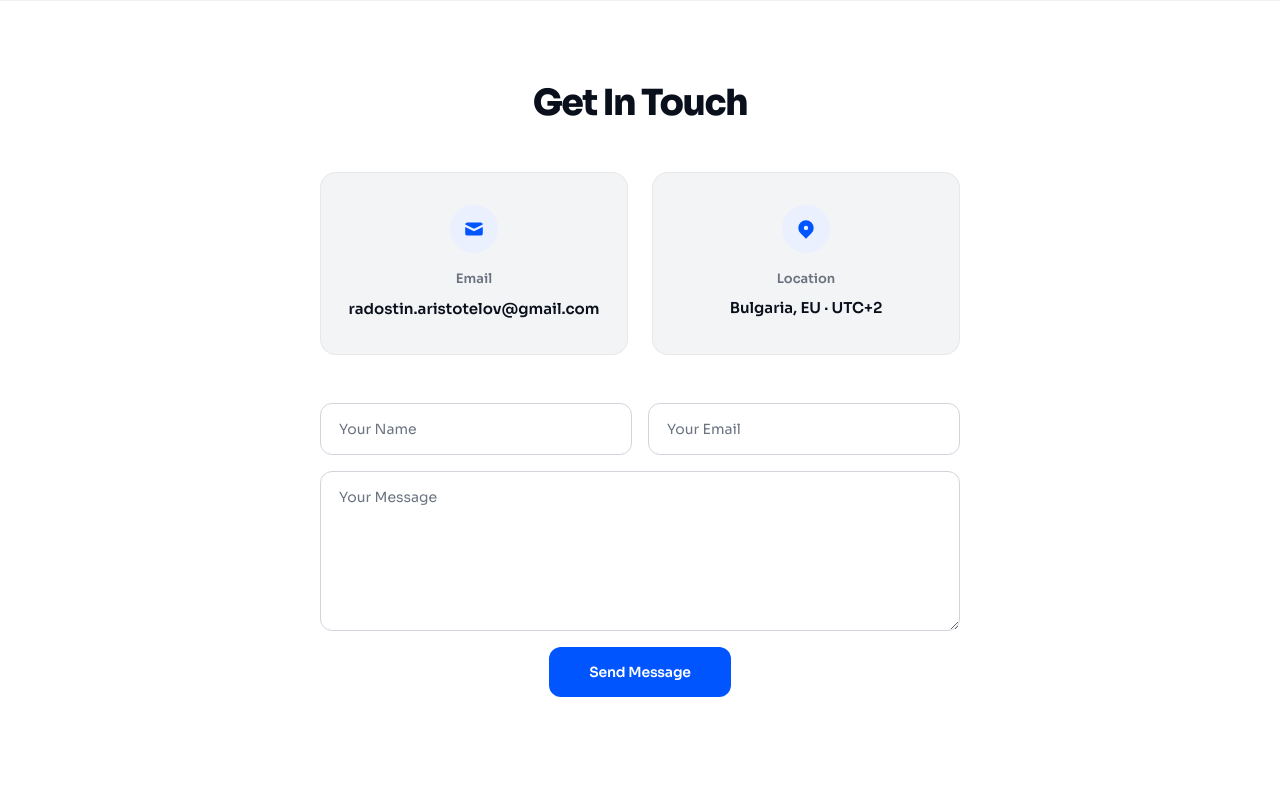
Test: Contact form › valid submission › clears the success alert when the name is edited
The image size is (1280, 800).
Step 1. Type "Ada Lovelace" into the field labelled "Your Name" → (476, 429), box [320,403,632,455]
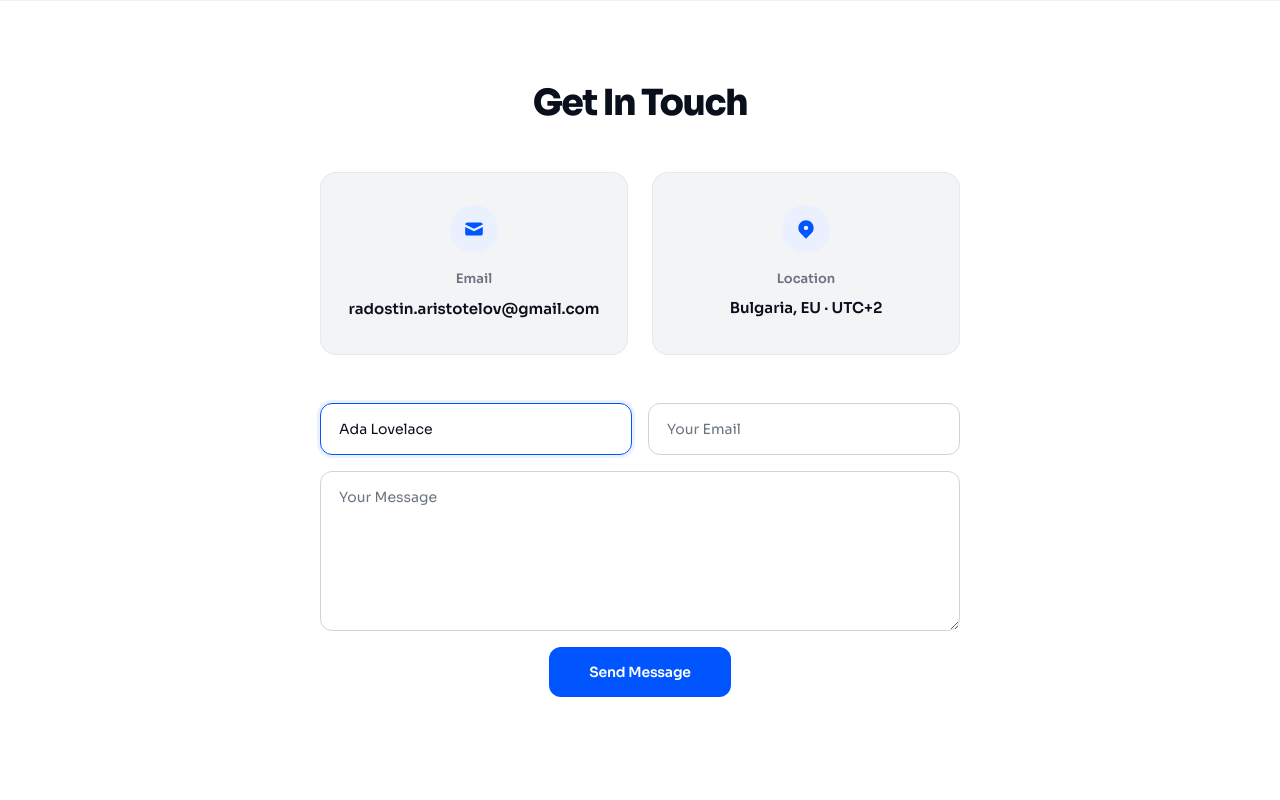
Step 2. Type "ada@example.com" into the field labelled "Your Email" → (804, 429), box [648,403,960,455]
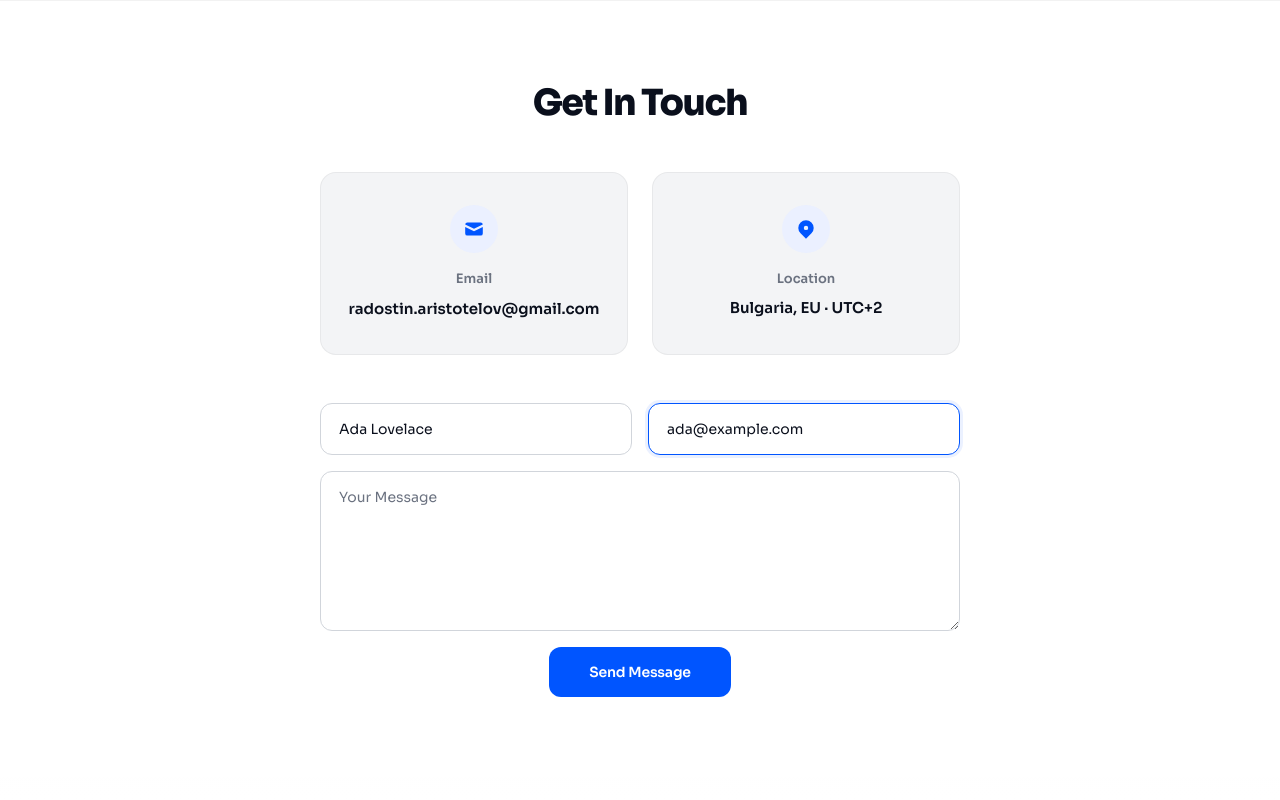
Step 3. Type "Hello there" into the text box labelled "Your Message" → (640, 551), box [320,471,960,631]
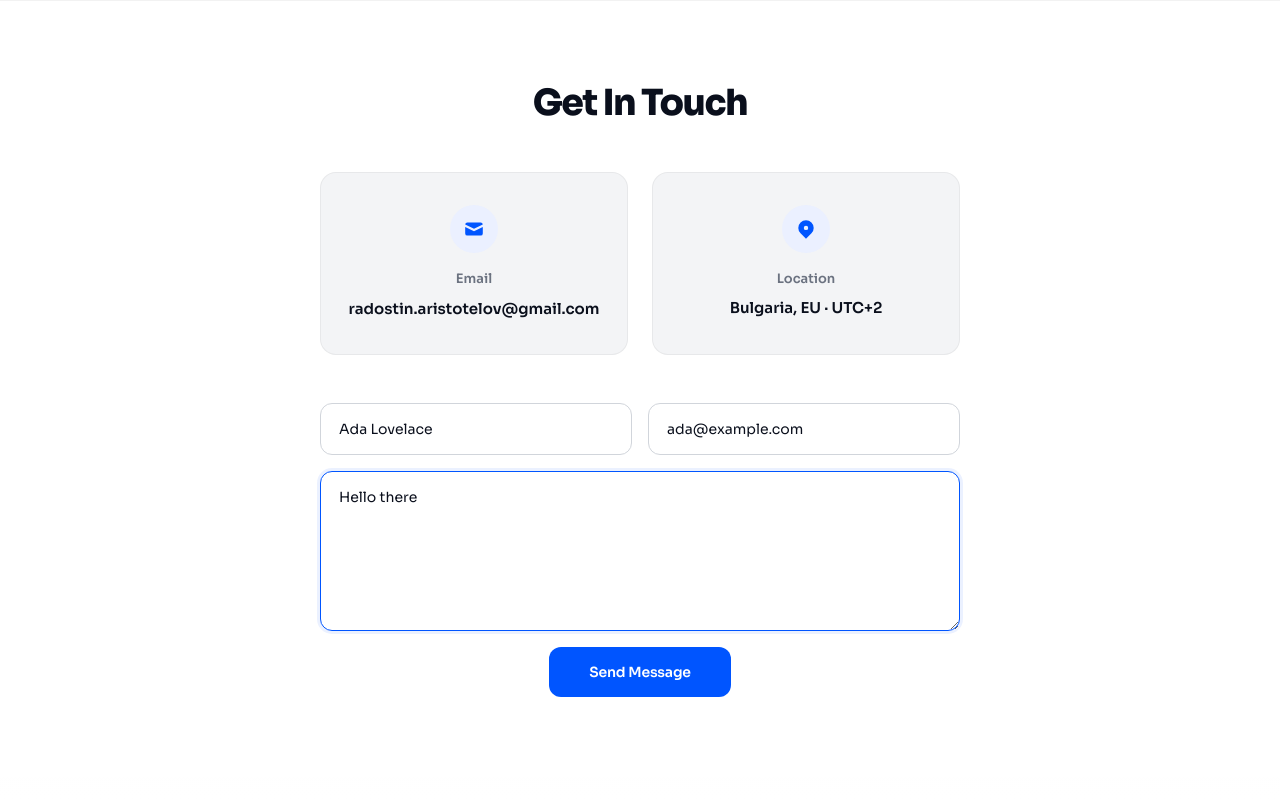
Step 4. Click the button "Send Message" → (640, 672), box [549,647,731,697]
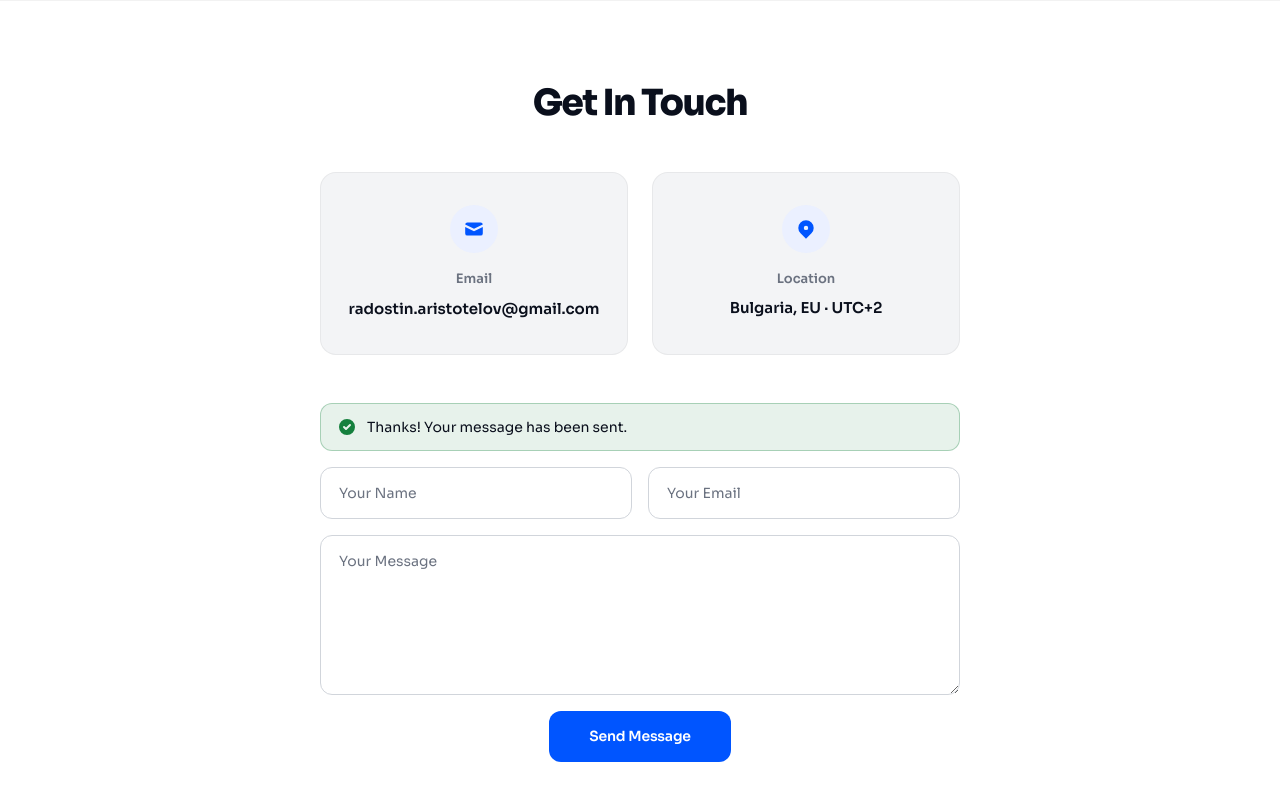
Now the message "Thanks! Your message has been sent." is shown, box [320,403,960,451]
Step 5. Type "a" into the field labelled "Your Name" → (476, 493), box [320,467,632,519]
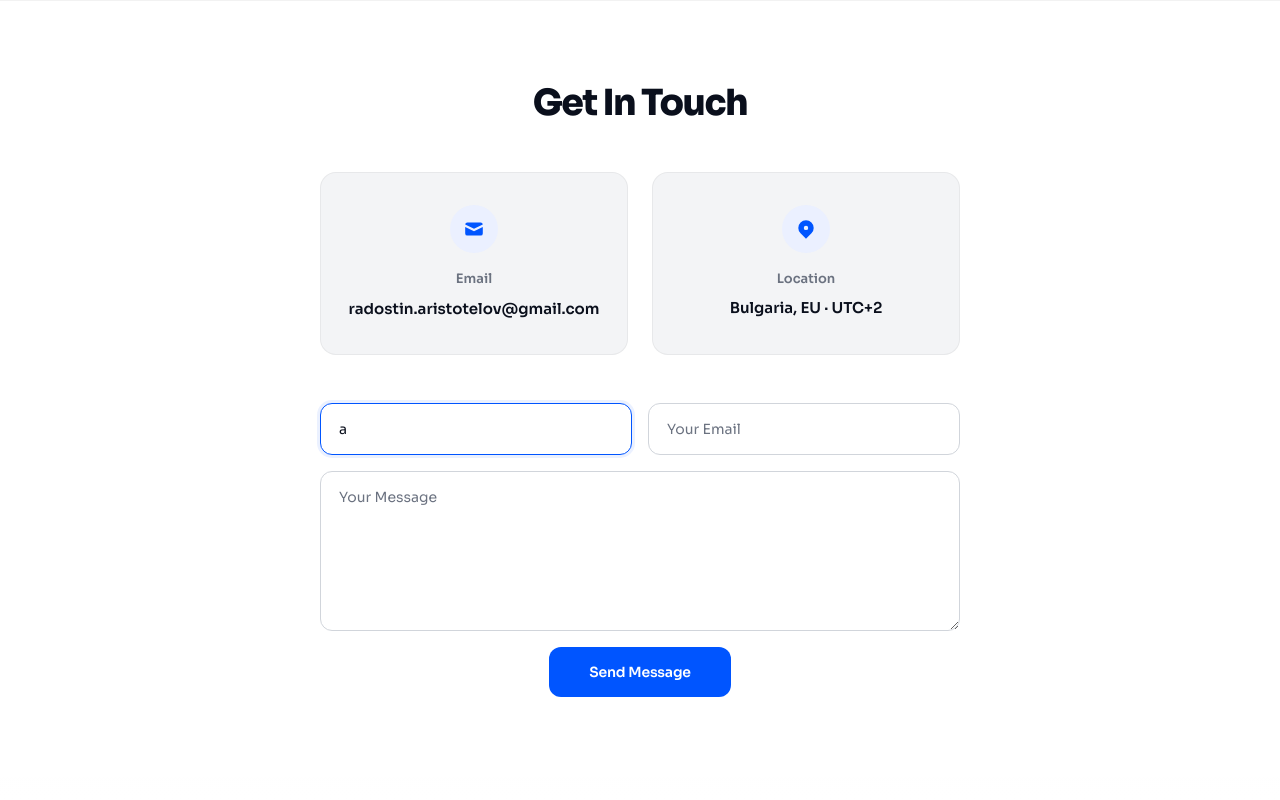
Now the message "Thanks! Your message has been sent." is gone
